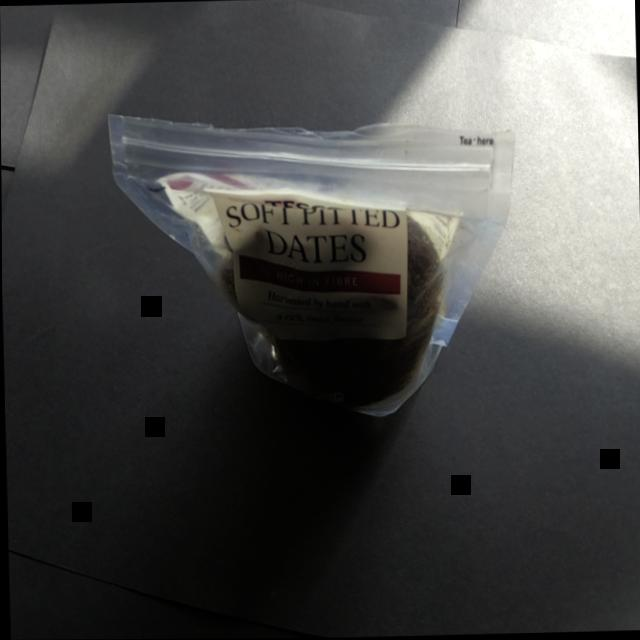Medjooldates: (88, 83, 559, 465)
